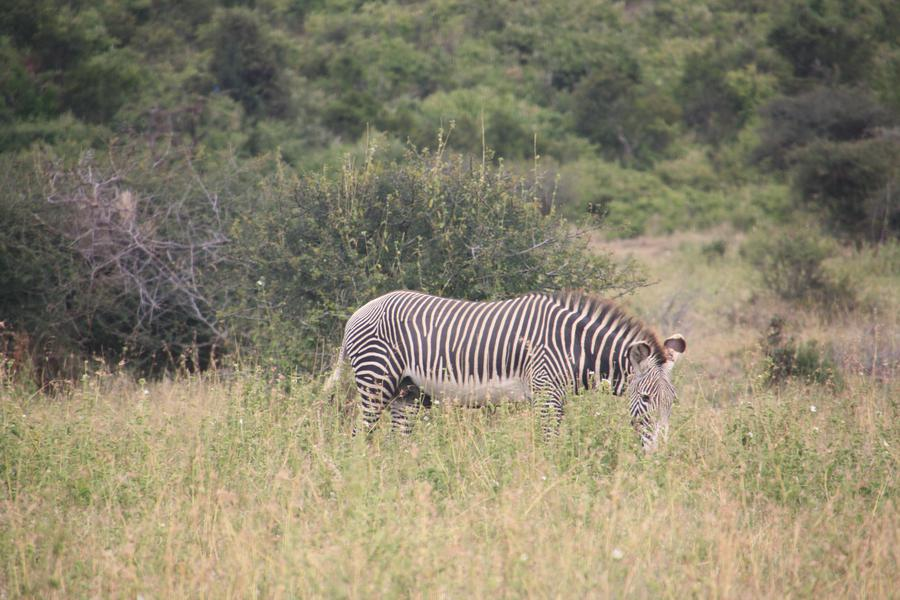zebra_grevys: (344, 283, 576, 409)
